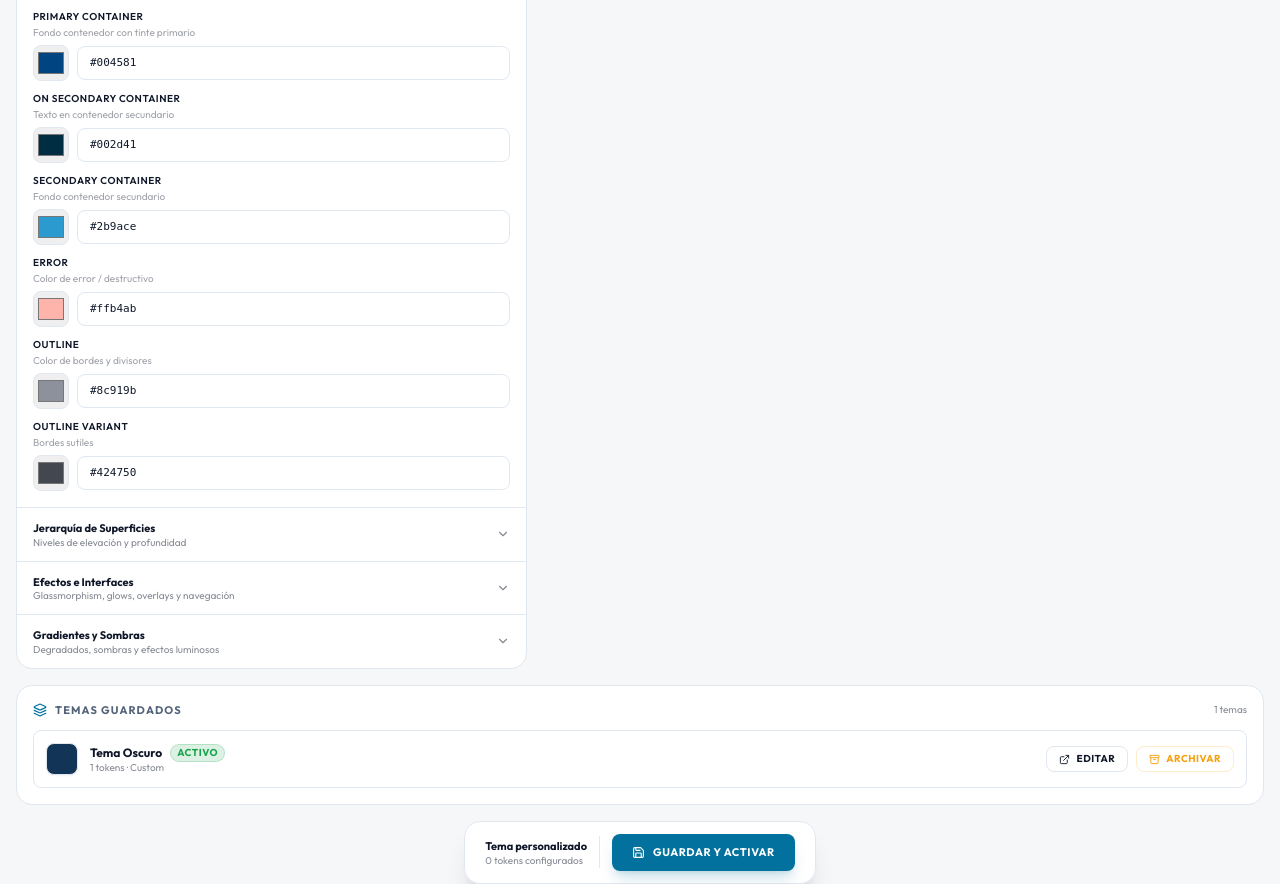
Test: CmsThemesPage › archiva un tema tras confirmar el drawer
The image size is (1280, 884).
(page scrolled)
Expected: the text "Tema Oscuro" is shown, [90,745,162,760]
Click the button "Archivar".
click(1185, 759)  # box [1136,746,1234,772]
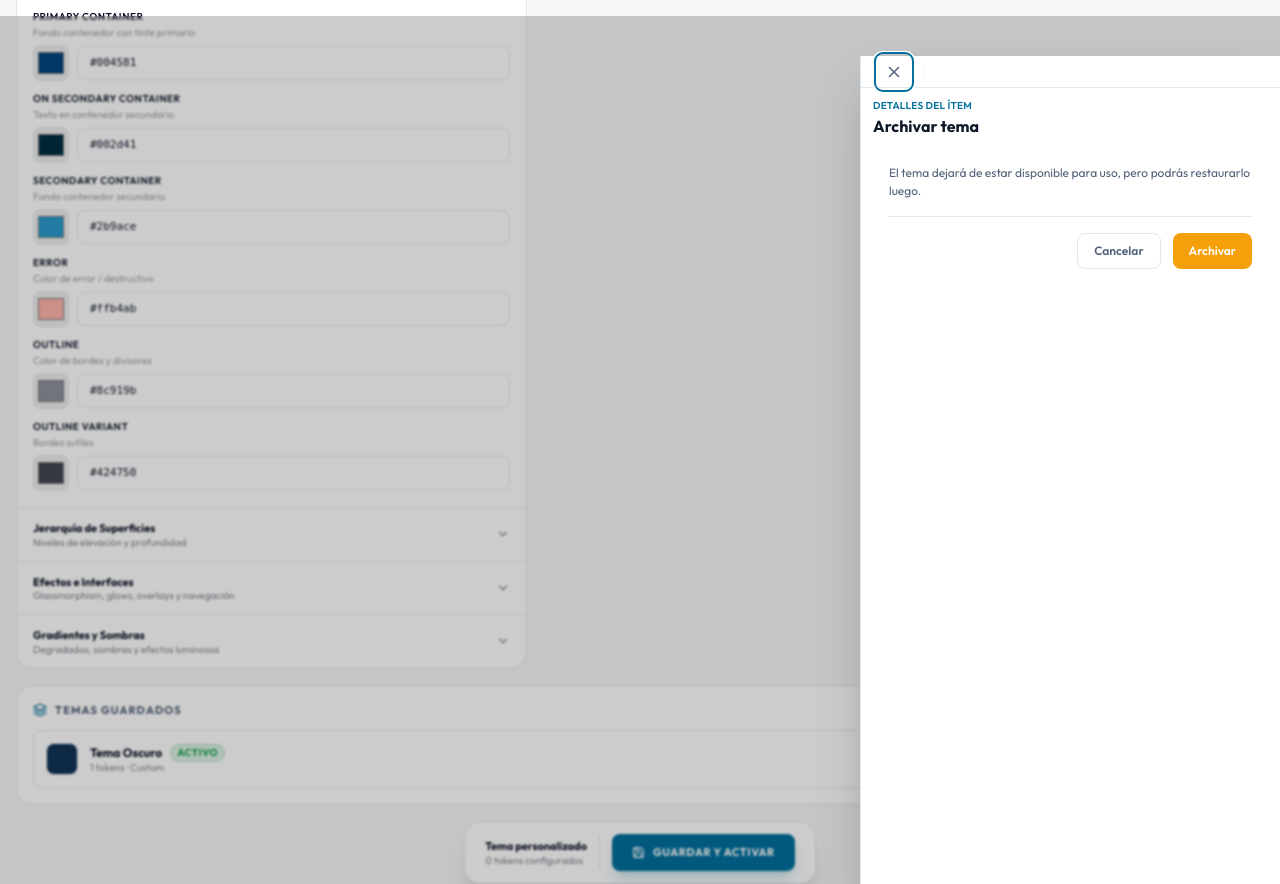
Now the button "Archivar" is shown
Click the button "Archivar".
click(1212, 251)  # box [1173,233,1252,269]
(page scrolled)
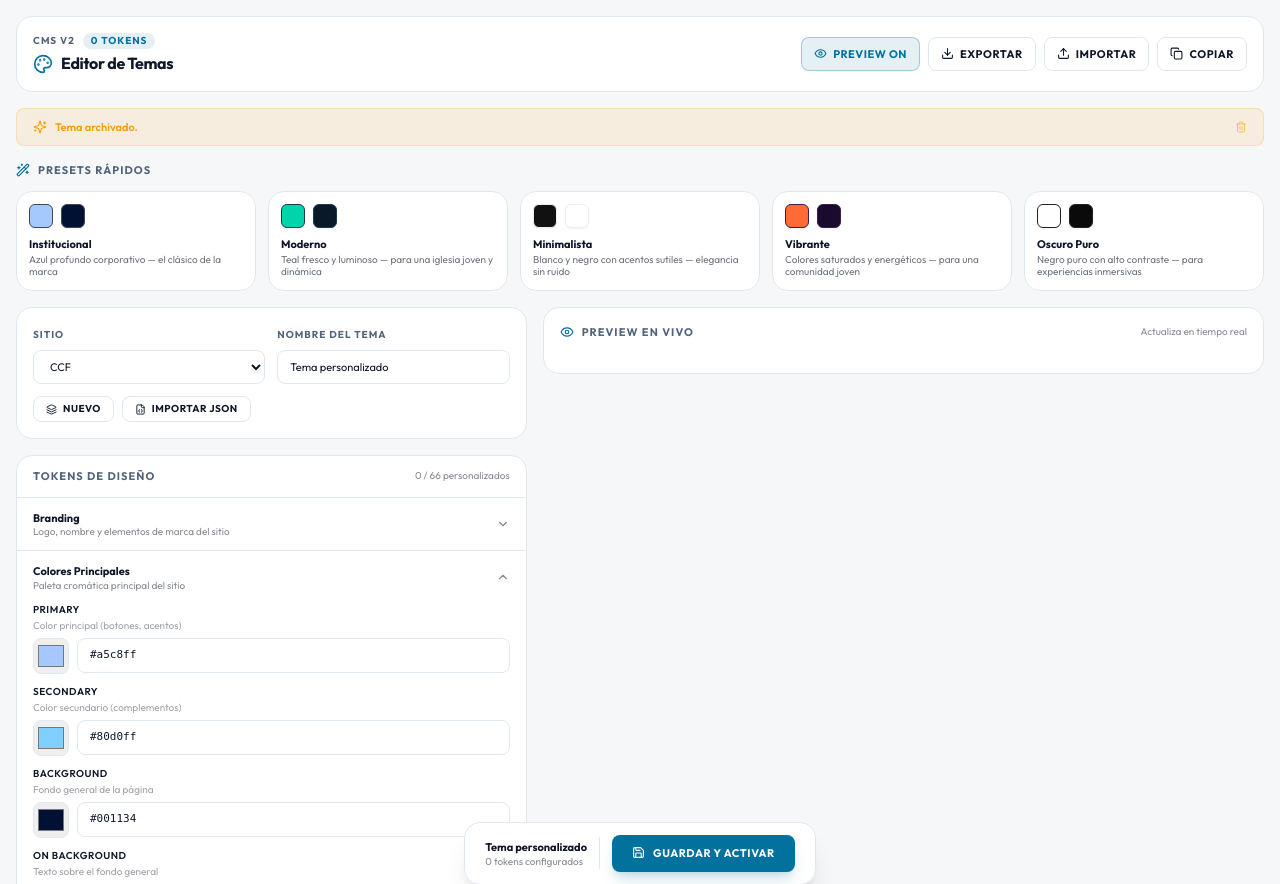
Now the text "Tema archivado." is shown, box [16,108,1264,146]
